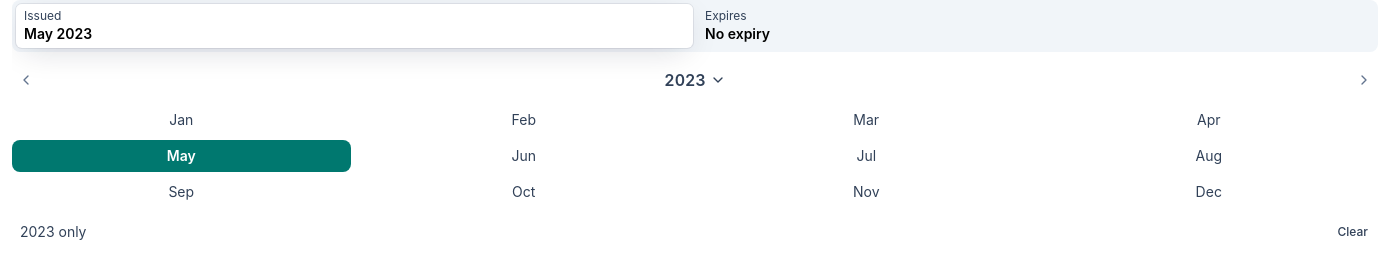
CertificateDatesForm › sets an expiry date on its own tab
Click the tab "Expires No expiry": (726, 16) [697,4,1374,48]
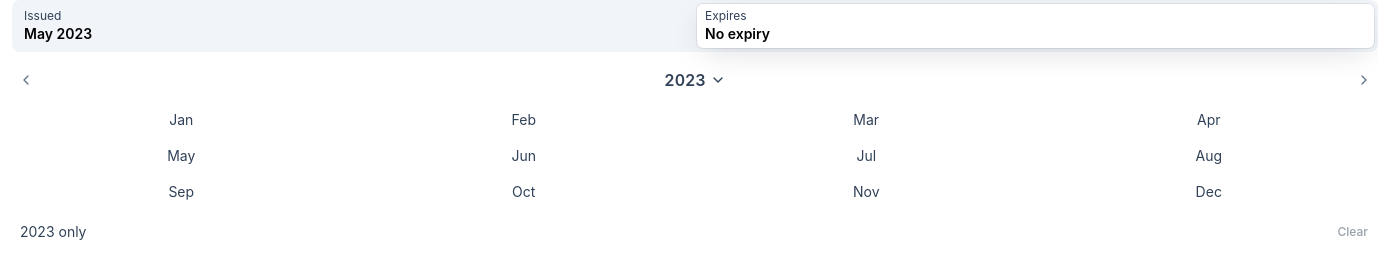
Click the button named "Next year": (1364, 80) [1350,66,1378,94]
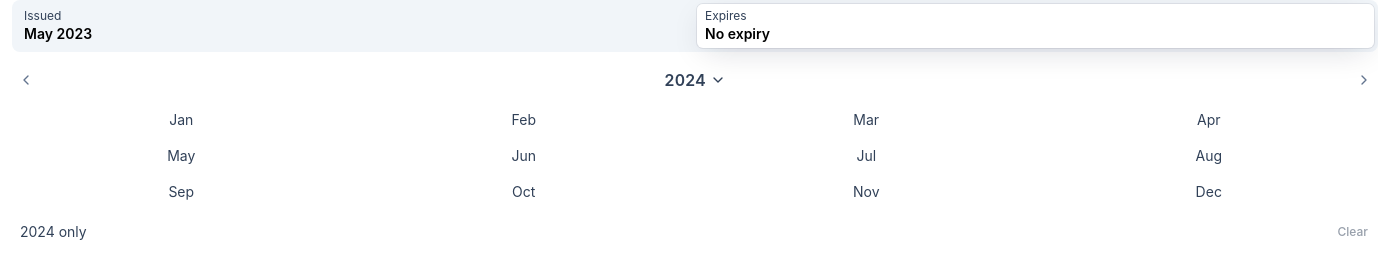
Click the button with aria-label "May 2024": (181, 156) [12,140,350,172]
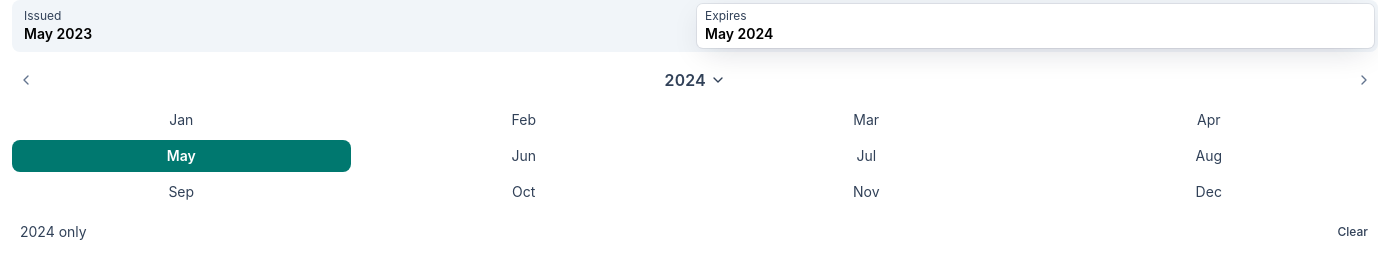
Now the tab "Expires May 2024" is shown, box [697,4,1374,48]
